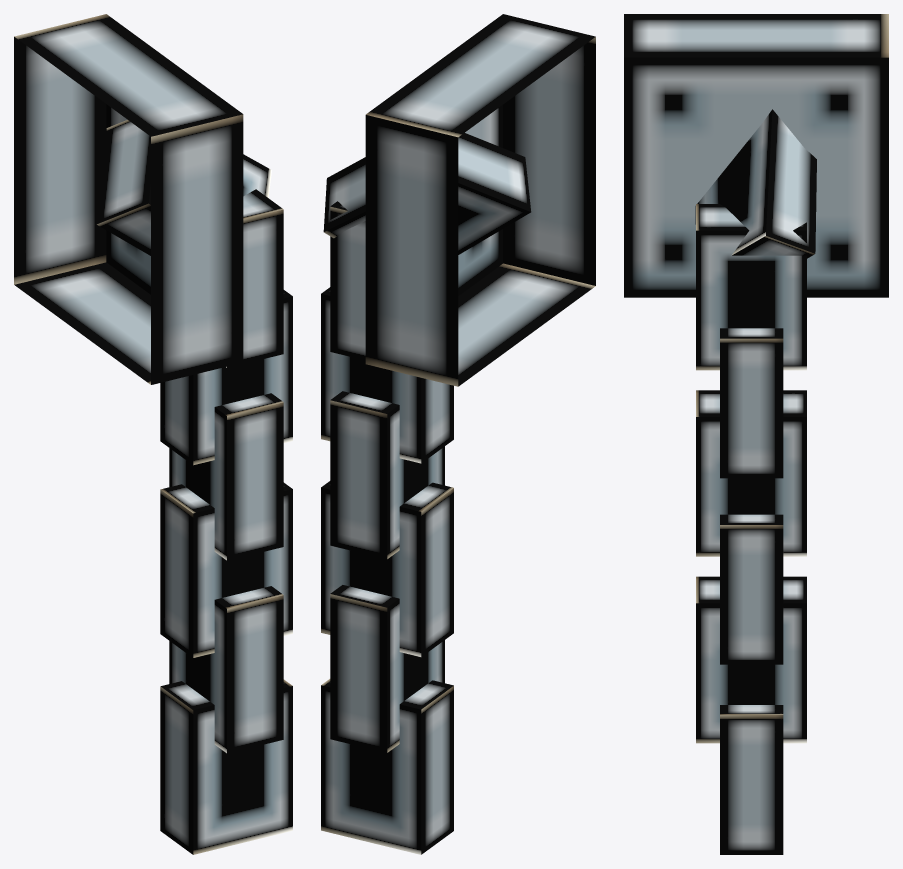
The model's file is deco_cathedral_chainEnd.FBX.
3 renders of one model, left to right at view 1: azimuth 30°, elevation 25°; view 2: azimuth 150°, elevation 25°; view 3: azimuth 270°, elevation 25°, orthographic. The views are drawn at different scales.
Parts seen in each view (by area): view 1: deco_cathedral_chainEnd; view 2: deco_cathedral_chainEnd; view 3: deco_cathedral_chainEnd.
Part boxes in pixels (<box>): deco_cathedral_chainEnd: <box>14,14,292,854</box>; deco_cathedral_chainEnd: <box>321,14,595,854</box>; deco_cathedral_chainEnd: <box>624,14,888,854</box>.
Bounding box in the file's own units: 0.3509 × 1.34 × 0.4281.
Materials: 1 (1 with a texture image).
